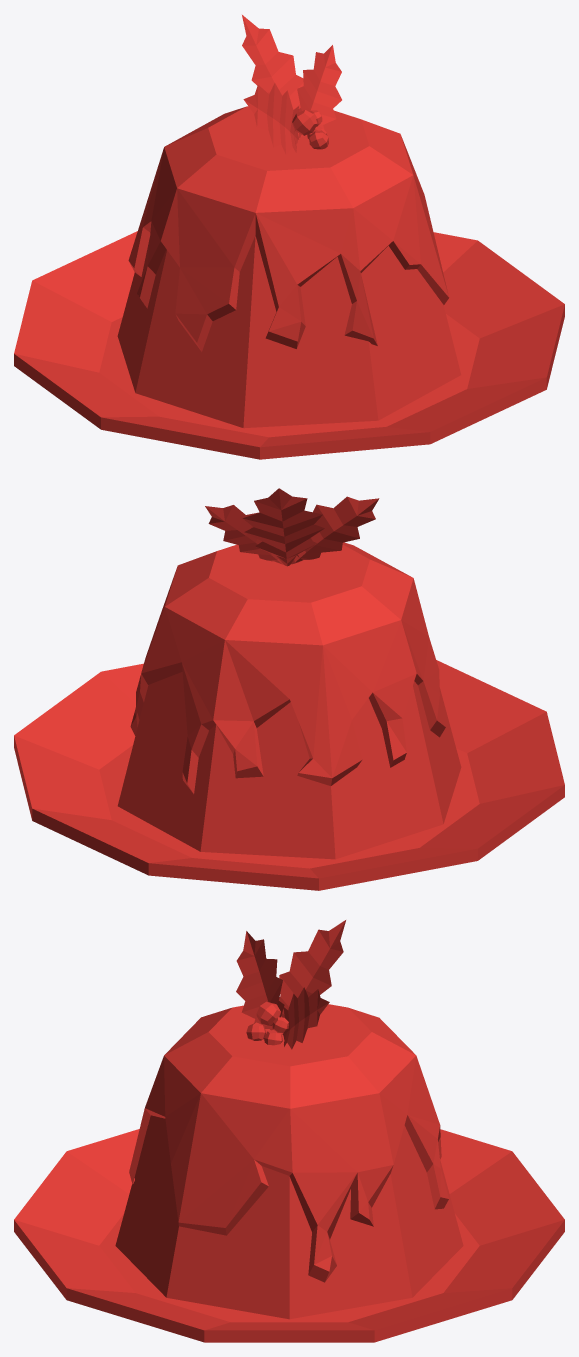
The model's file is SM_Christmas_Pudding.fbx.
3 views of the same model, one above another, from view 1: azimuth 30°, elevation 25°; view 2: azimuth 150°, elevation 25°; view 3: azimuth 270°, elevation 25° (orthographic). The views are drawn at different scales.
Parts seen in each view (by area): view 1: christmas-pudding; view 2: christmas-pudding; view 3: christmas-pudding.
Part boxes in pixels (x1,y1,x2,y2): christmas-pudding: (14,15,564,459); christmas-pudding: (14,488,564,890); christmas-pudding: (14,920,564,1342).
Bounding box in the file's own units: 0.2995 × 0.2079 × 0.315.
